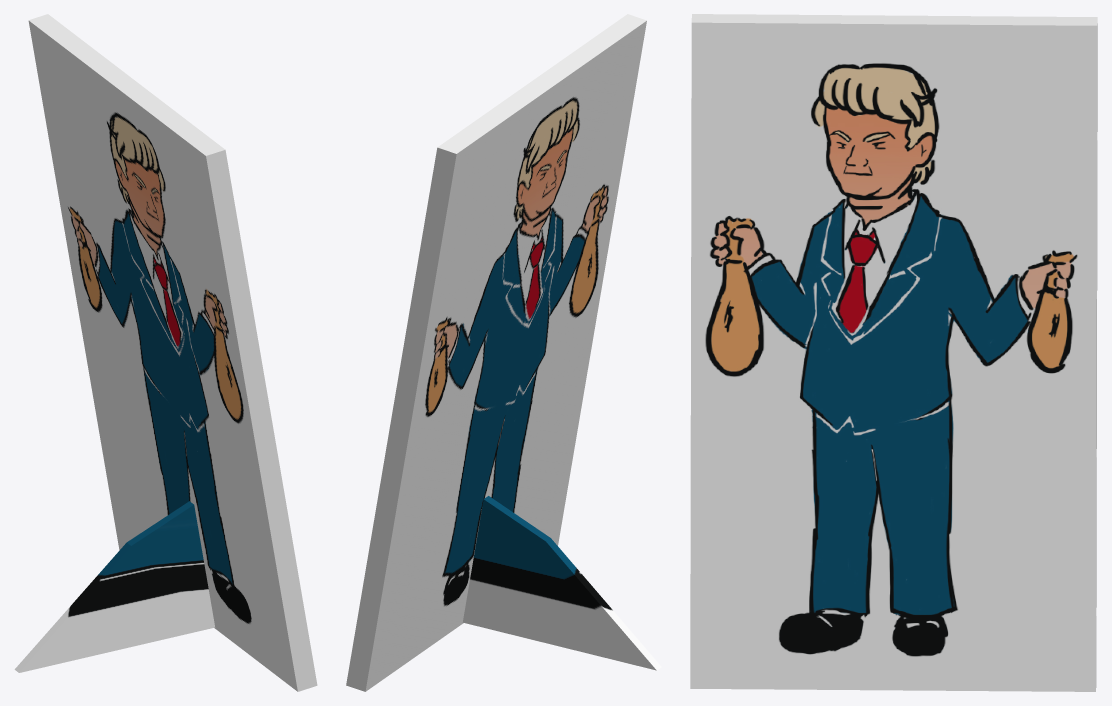
The model's file is money guy.fbx.
The picture shows the model from 3 angles, left to right: view 1: azimuth 30°, elevation 25°; view 2: azimuth 150°, elevation 25°; view 3: azimuth 270°, elevation 25°; orthographic projection. The views are drawn at different scales.
Parts seen in each view (by area): view 1: Cube; view 2: Cube; view 3: Cube.
Part boxes in pixels (bbox=[...]): Cube: bbox=[14, 14, 317, 691]; Cube: bbox=[346, 14, 661, 691]; Cube: bbox=[690, 14, 1097, 691].
Bounding box in the file's own units: 1.16 × 2.85 × 1.7.
